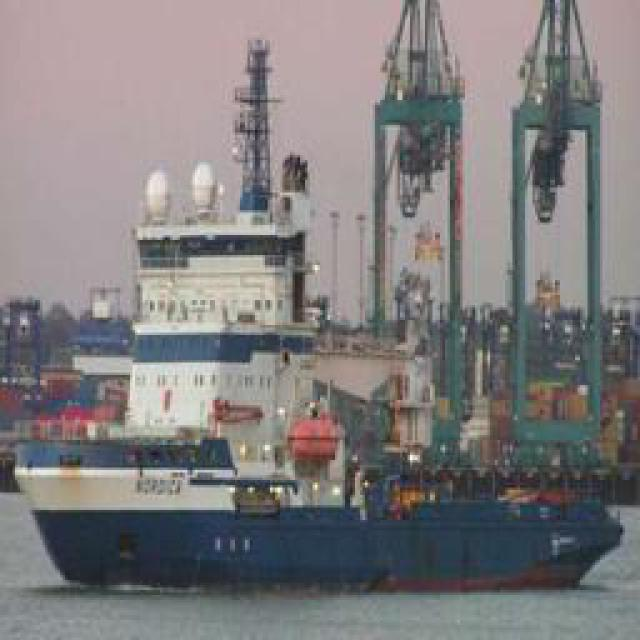Ship: (2, 430, 622, 603)
